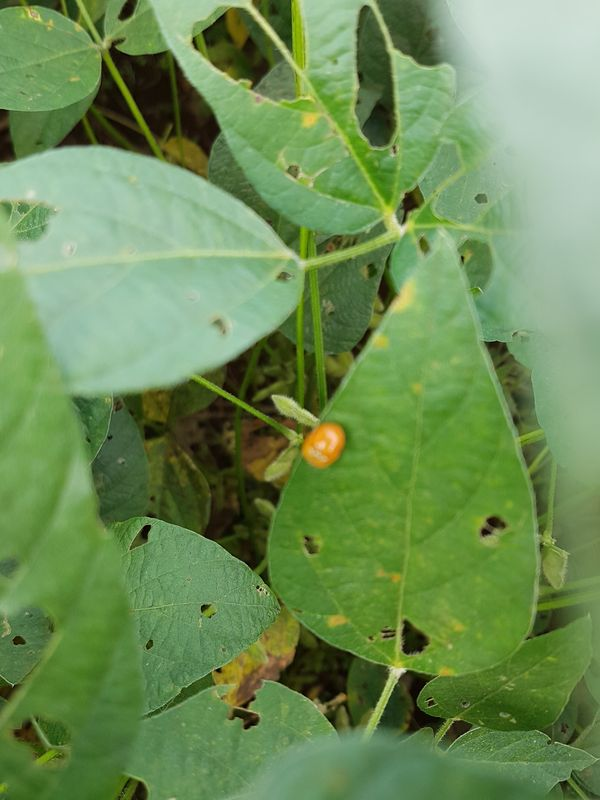Coccinellidae: (290, 415, 353, 476)
